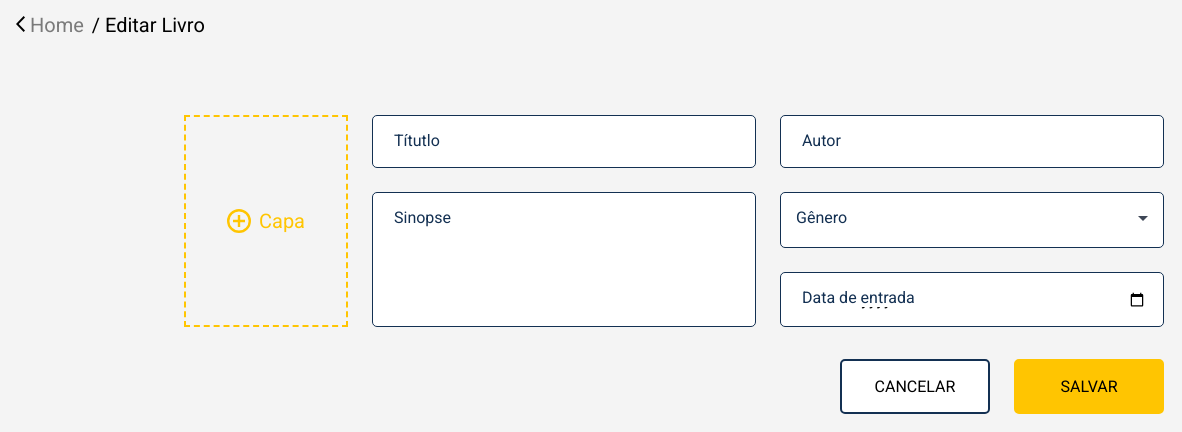
Test: <EditBook /> › Autor field › should throw an error when the field is empty
Clear the field with test id "autorField" at x=972, y=142, box [780,115,1164,168]
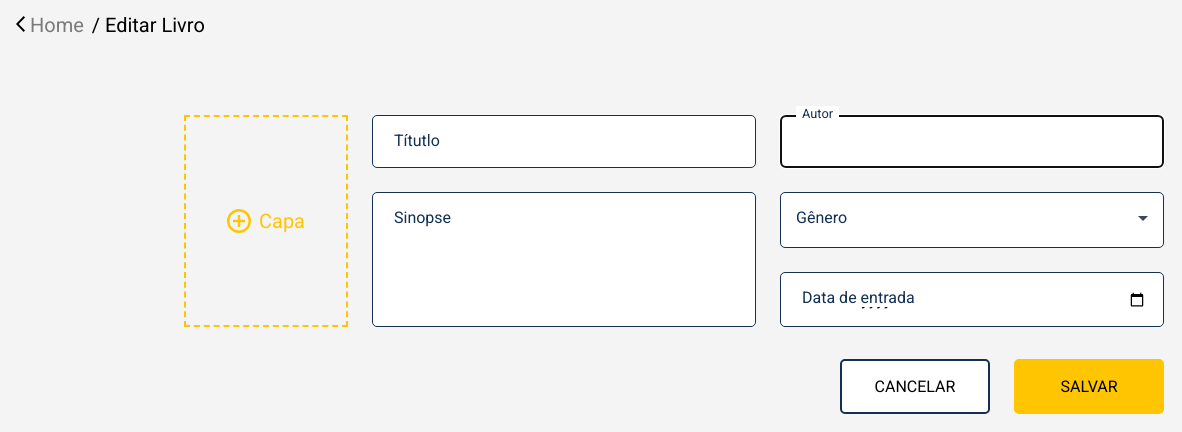
Click the button with test id "saveBook".
click(1089, 387)  # box [1014,359,1164,414]
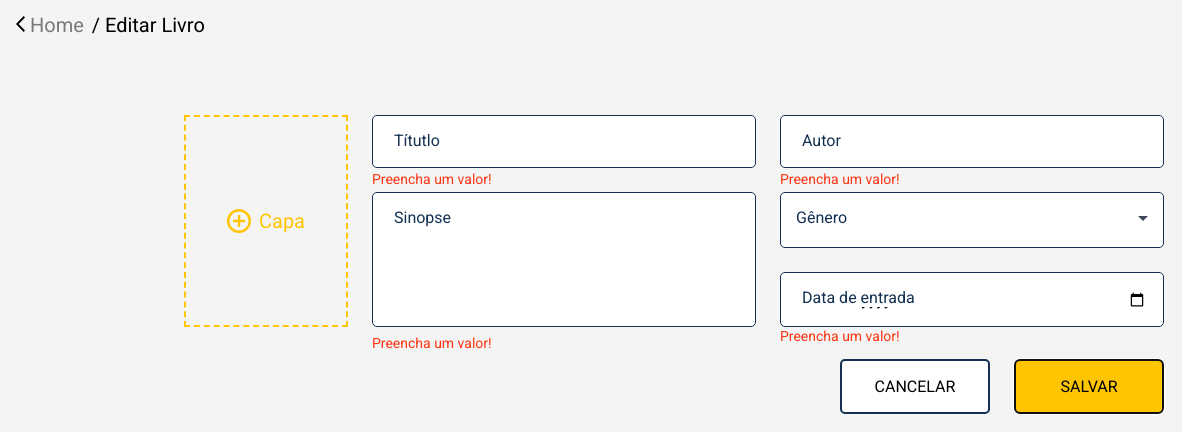
Expected: the text with test id "autorError" is shown, [780,171,900,187]
